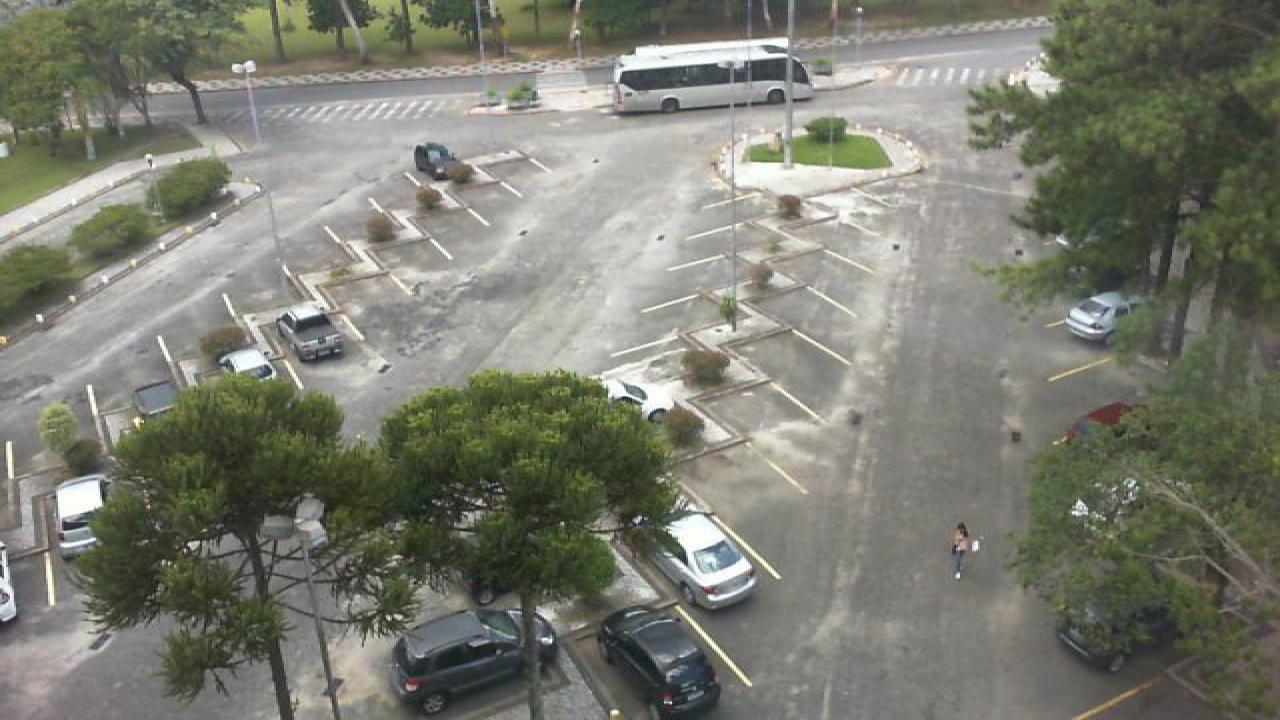Car: (388, 609, 558, 719), (596, 605, 724, 720), (648, 510, 760, 610), (1054, 613, 1148, 676), (52, 474, 112, 556), (1064, 290, 1150, 346), (274, 303, 346, 362), (598, 375, 682, 424), (1064, 400, 1140, 444), (216, 345, 278, 387), (130, 379, 180, 430), (412, 142, 460, 180), (0, 542, 18, 624)
